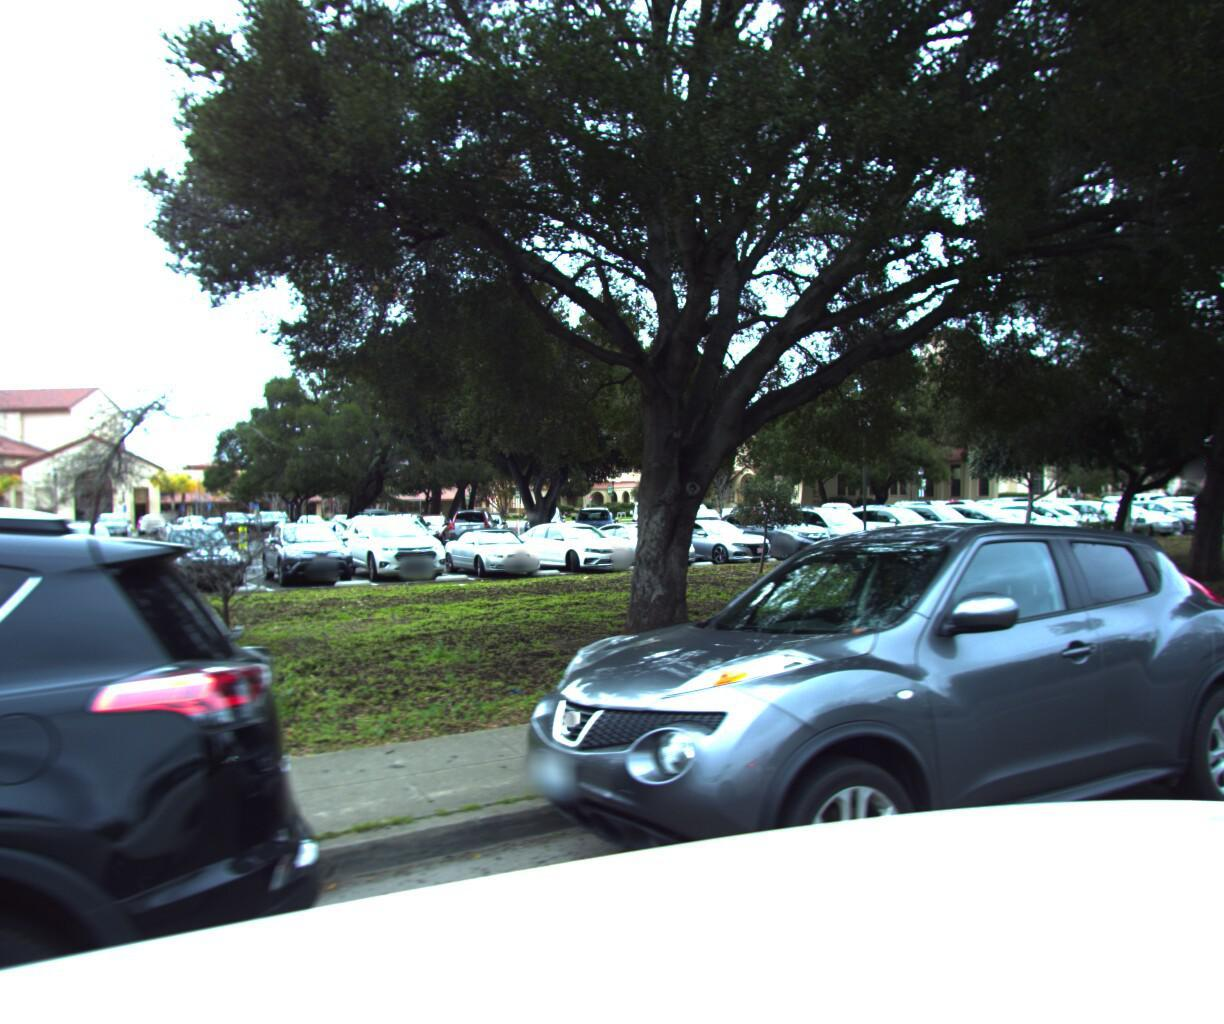car: (471, 514, 1224, 1024), (0, 492, 371, 1024)
